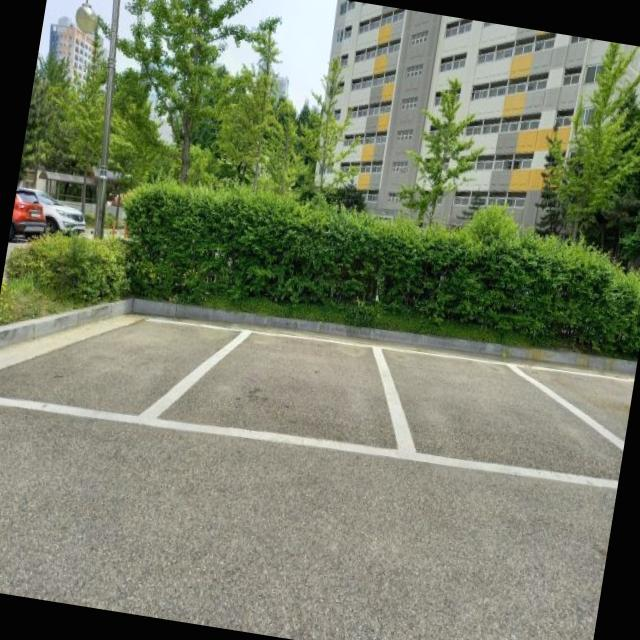free: (362, 346, 634, 496), (148, 316, 416, 466), (0, 292, 249, 442), (508, 362, 634, 447)
